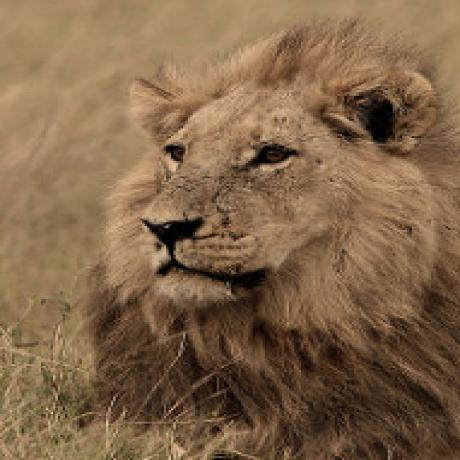Lion: (88, 13, 460, 460)
